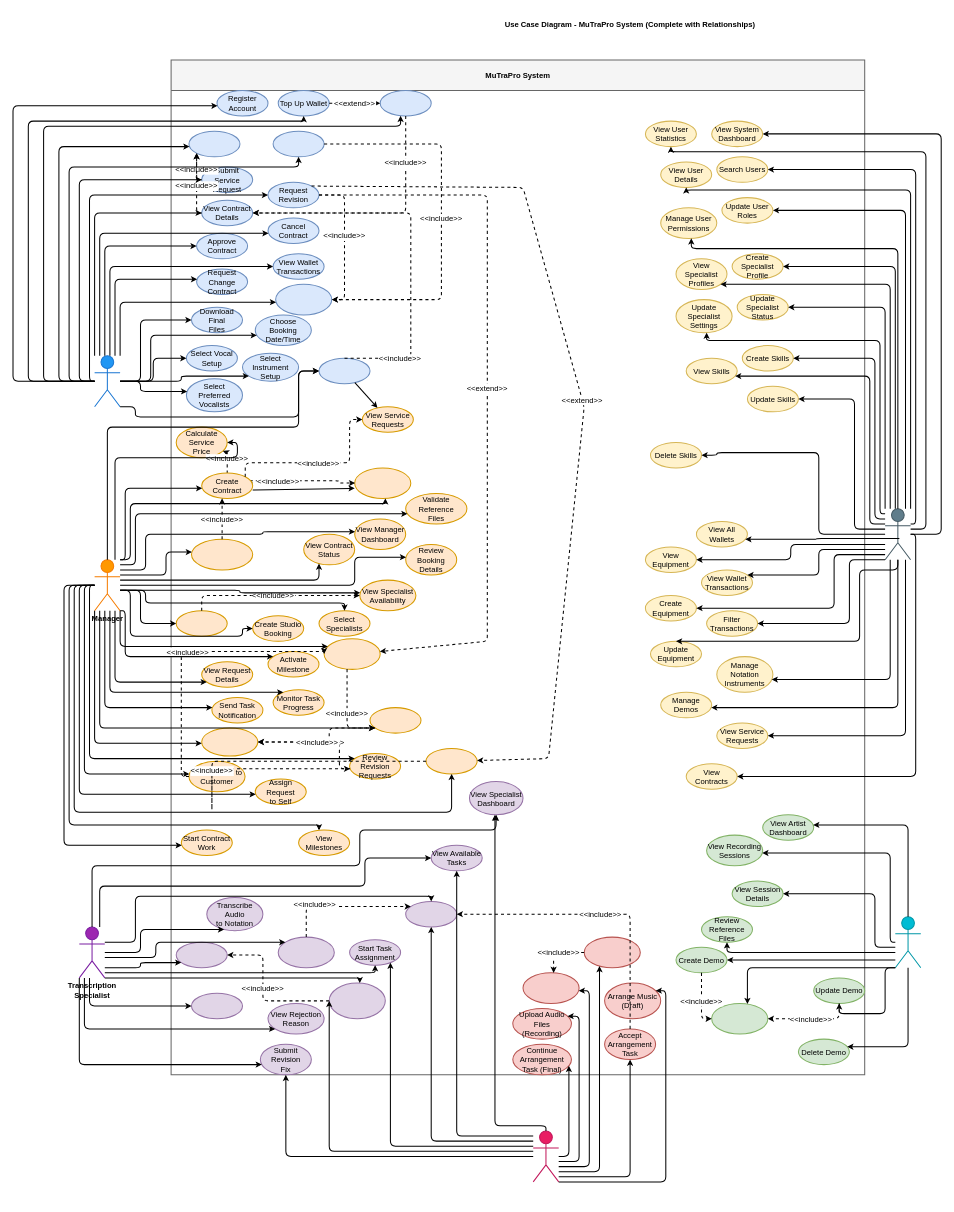
The diagram is 954 pixels wide and 1212 high, and some of its shapes have lost their labels. Each missing label, with the centre of its shape:
"Accept Submission" belongs at (298,144).
"Accept Transcription Task" belongs at (306,952).
"Approve/Reject Files" belongs at (351,654).
"Approve/Reject Revision" belongs at (451,761).
"Arrangement Specialist" belongs at (545,1156).
"Artist" belongs at (908,942).
"Assign Task to Specialist" belongs at (201,623).
"Customer" belongs at (107,381).
"Fix and Resubmit" belongs at (217,1005).
"Login to System" belongs at (214,144).
"Make Payment" belongs at (405,103).
"Review Submitted Files" belongs at (395,720).
"Send Contract to Customer" belongs at (222,554).
"Sign Contract" belongs at (344,371).
"Submit Draft for Review" belongs at (612,952).
"Submit Files for Review" belongs at (357,1000).
"System Admin" belongs at (897,534).
"Upload Arrangement Files" belongs at (550,988).
"Upload Demo File" belongs at (739,1018).
"Upload Files" belongs at (201,954).
"Validate Request Information" belongs at (382,483).
"View Deliverable Files" belongs at (303,299).
"View Specialist Submissions" belongs at (229,741).
"View Task Details" belongs at (431,914).
